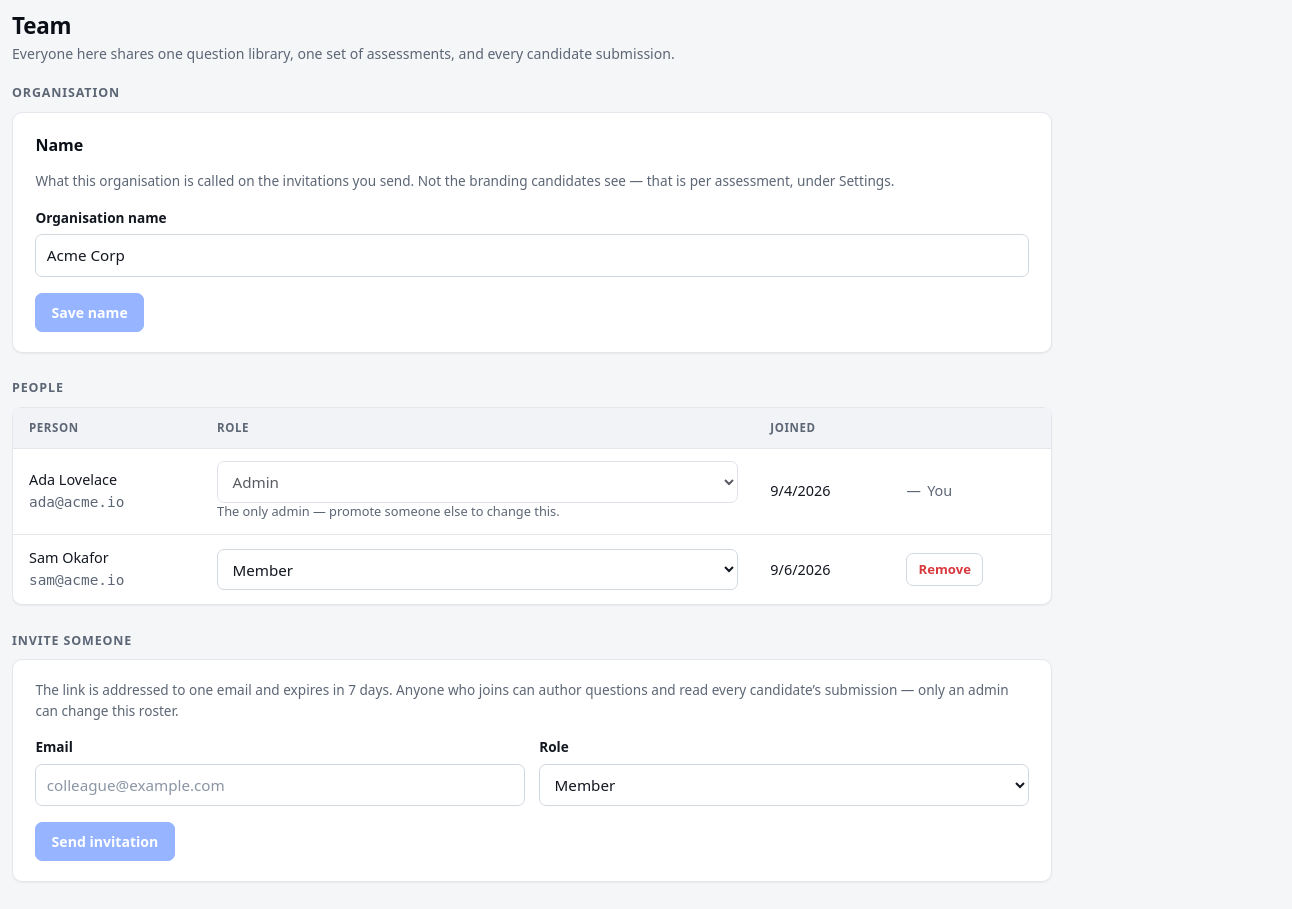
it: TeamPage › reseeds the rename field when a reload brings a different name
The width and height of the screenshot is (1292, 909).
Expected: the field showing "Acme Corp" is shown, [35, 234, 1029, 277]
Step 1. Click the button "Remove" → (945, 570), box [906, 553, 983, 586]
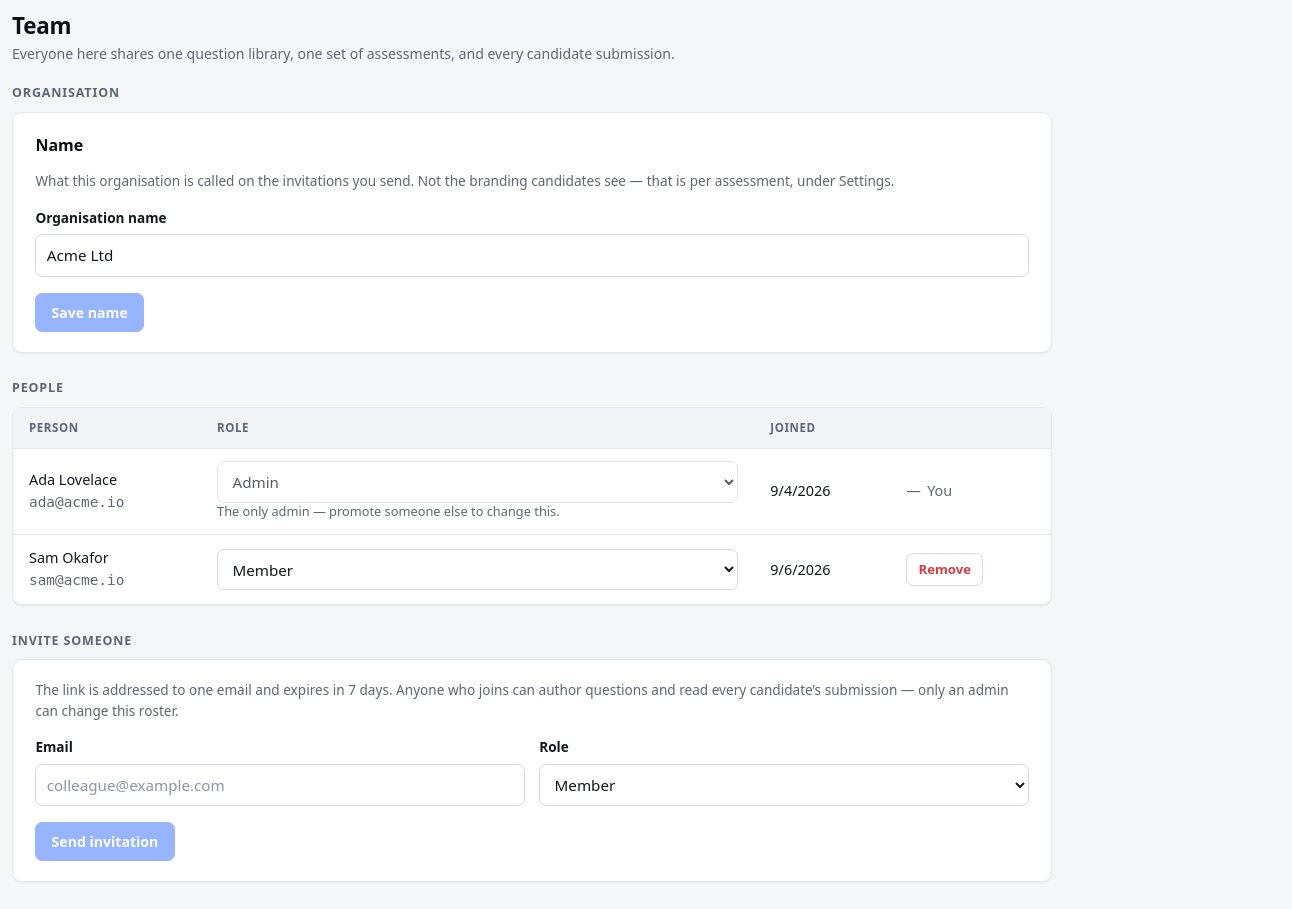
Expected: the field labelled "Organisation name" holds "Acme Ltd", [35, 234, 1029, 277]
